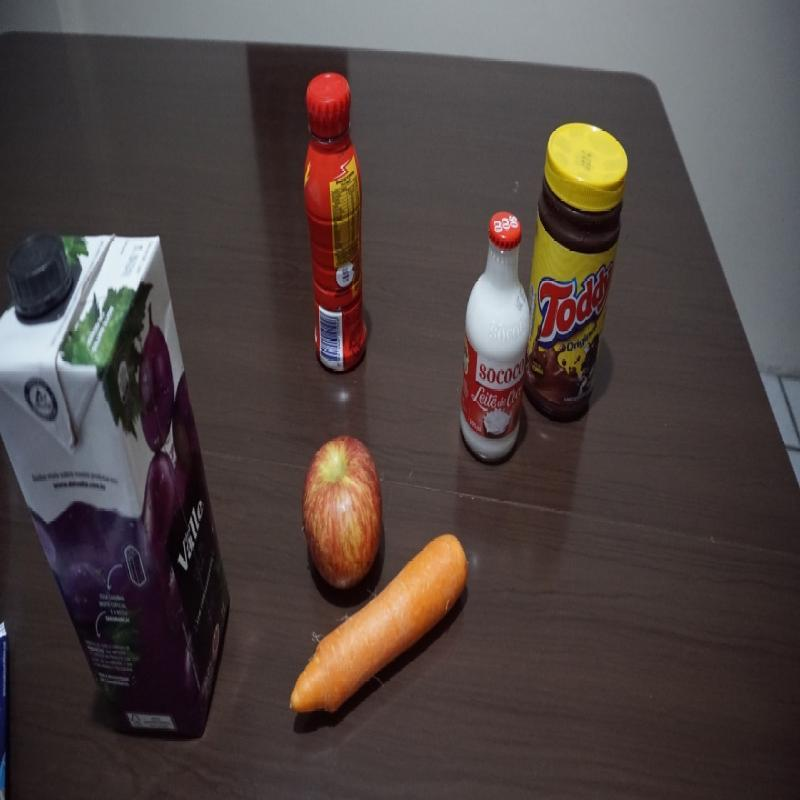Apple: (295, 421, 383, 576)
Carrot: (290, 579, 467, 718)
Chocolate Milk: (302, 67, 370, 372)
Chocolate Powder: (532, 117, 628, 422)
Coconut Milk: (457, 203, 528, 466)
